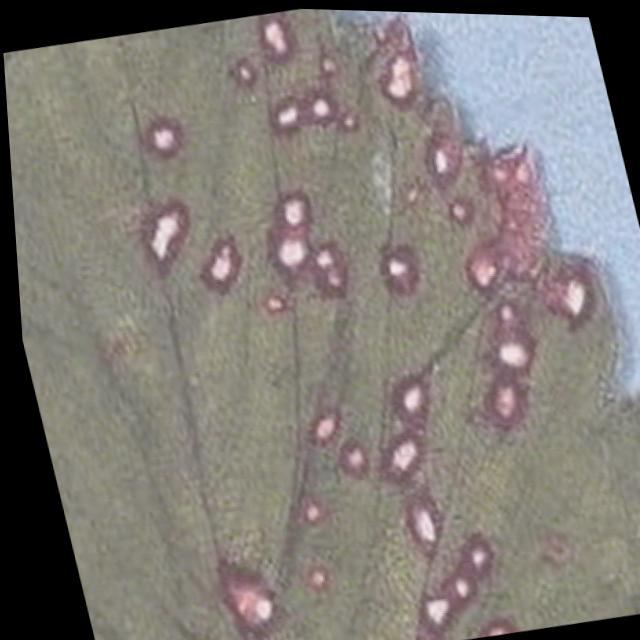Leaf Spot: (3, 7, 640, 640)
